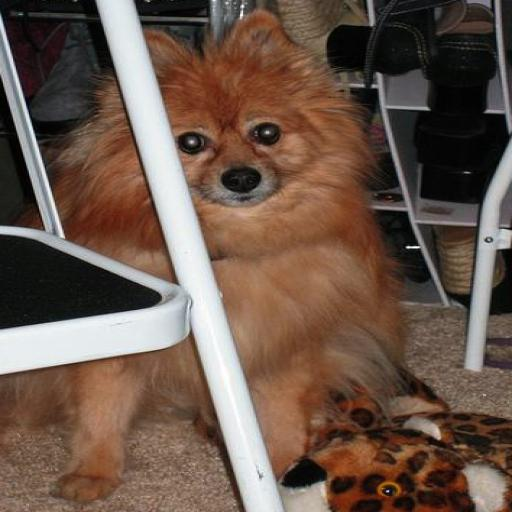dog_face: (108, 27, 337, 208)
